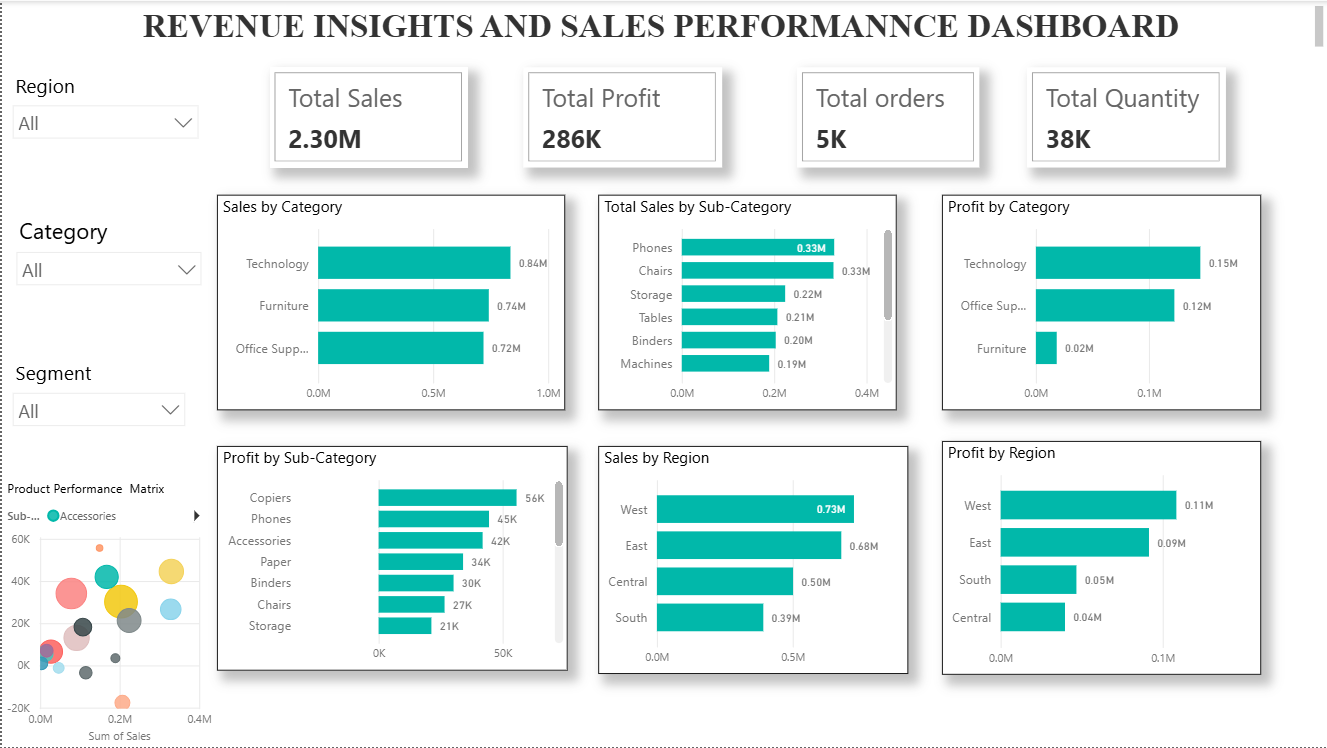

The page's visual inventory and layout, read from the dashboard file:
{"tool":"powerbi","page":{"name":"REVENUE INSIGHTS AND SALES PERFORMANNCE DASHBOARD","canvas":[1280,720],"ordinal":0},"visuals":[{"type":"textbox","box":[0,0,1280,56.7],"z":0},{"type":"cardVisual","fields":{"Data":["Sum(superstore_cleaned.Sales)"]},"box":[258.2,63.9,191.8,96.5],"z":1},{"type":"cardVisual","fields":{"Data":["superstore_cleaned.total profit"]},"box":[503.1,63.9,191.8,96.5],"z":2},{"type":"cardVisual","fields":{"Data":["superstore_cleaned.Total orders"]},"box":[767.3,63.9,176.1,96.5],"z":3},{"type":"cardVisual","fields":{"Data":["superstore_cleaned.Total Quantity"]},"box":[989.3,63.9,191.8,96.5],"z":4},{"type":"slicer","fields":{"Values":["superstore_cleaned.Region"]},"box":[0,64,199.4,155.1],"z":5},{"type":"slicer","fields":{"Values":["superstore_cleaned.Category"]},"box":[3.6,201.5,199.1,127.9],"z":7},{"type":"slicer","fields":{"Values":["superstore_cleaned.Segment"]},"box":[0,341.4,187,129.1],"z":8},{"type":"clusteredBarChart","title":" Sales by Category","fields":{"Category":["superstore_cleaned.Category"],"Y":["superstore_cleaned.Total Sales"]},"box":[208,187.1,336,208],"z":9},{"type":"clusteredBarChart","fields":{"Category":["superstore_cleaned.Sub-Category"],"Y":["superstore_cleaned.Total Sales"]},"box":[576,187.1,288,208],"z":10},{"type":"clusteredBarChart","title":"Profit by Category","fields":{"Category":["superstore_cleaned.Category"],"Y":["superstore_cleaned.total profit"]},"box":[907.1,187.1,307.7,208],"z":11},{"type":"clusteredBarChart","title":"Profit by Sub-Category","fields":{"Category":["superstore_cleaned.Sub-Category"],"Y":["superstore_cleaned.total profit"]},"box":[208,429.5,338.5,216.6],"z":12},{"type":"clusteredBarChart","title":"Sales by Region","fields":{"Category":["superstore_cleaned.Region"],"Y":["superstore_cleaned.Total Sales"]},"box":[576,429.5,299.1,220.3],"z":13},{"type":"clusteredBarChart","title":"Profit by Region","fields":{"Category":["superstore_cleaned.Region"],"Y":["superstore_cleaned.total profit"]},"box":[907.2,424.7,307.6,225.6],"z":14},{"type":"scatterChart","title":"Product Performance  Matrix","fields":{"X":["Sum(superstore_cleaned.Sales)"],"Y":["Sum(superstore_cleaned.Profit)"],"Size":["Sum(superstore_cleaned.Quantity)"],"Series":["superstore_cleaned.Sub-Category"]},"box":[0,462.1,207.5,258.2],"z":15}]}

Visuals, with their boxes in screenshot pixels (x1, y1, x2, y2), scaled from the page's 1280x720 canvas onto the 1327x748 screenshot:
textbox: <bbox>0, 0, 1326, 59</bbox>
cardVisual - Sum(superstore_cleaned.Sales): <bbox>268, 66, 467, 167</bbox>
cardVisual - superstore_cleaned.total profit: <bbox>522, 66, 720, 167</bbox>
cardVisual - superstore_cleaned.Total orders: <bbox>795, 66, 978, 167</bbox>
cardVisual - superstore_cleaned.Total Quantity: <bbox>1026, 66, 1224, 167</bbox>
slicer - superstore_cleaned.Region: <bbox>0, 66, 207, 228</bbox>
slicer - superstore_cleaned.Category: <bbox>4, 209, 210, 342</bbox>
slicer - superstore_cleaned.Segment: <bbox>0, 355, 194, 489</bbox>
" Sales by Category" clusteredBarChart: <bbox>216, 194, 564, 410</bbox>
clusteredBarChart - superstore_cleaned.Sub-Category x superstore_cleaned.Total Sales: <bbox>597, 194, 896, 410</bbox>
"Profit by Category" clusteredBarChart: <bbox>940, 194, 1259, 410</bbox>
"Profit by Sub-Category" clusteredBarChart: <bbox>216, 446, 567, 671</bbox>
"Sales by Region" clusteredBarChart: <bbox>597, 446, 907, 675</bbox>
"Profit by Region" clusteredBarChart: <bbox>941, 441, 1259, 676</bbox>
"Product Performance  Matrix" scatterChart: <bbox>0, 480, 215, 747</bbox>
